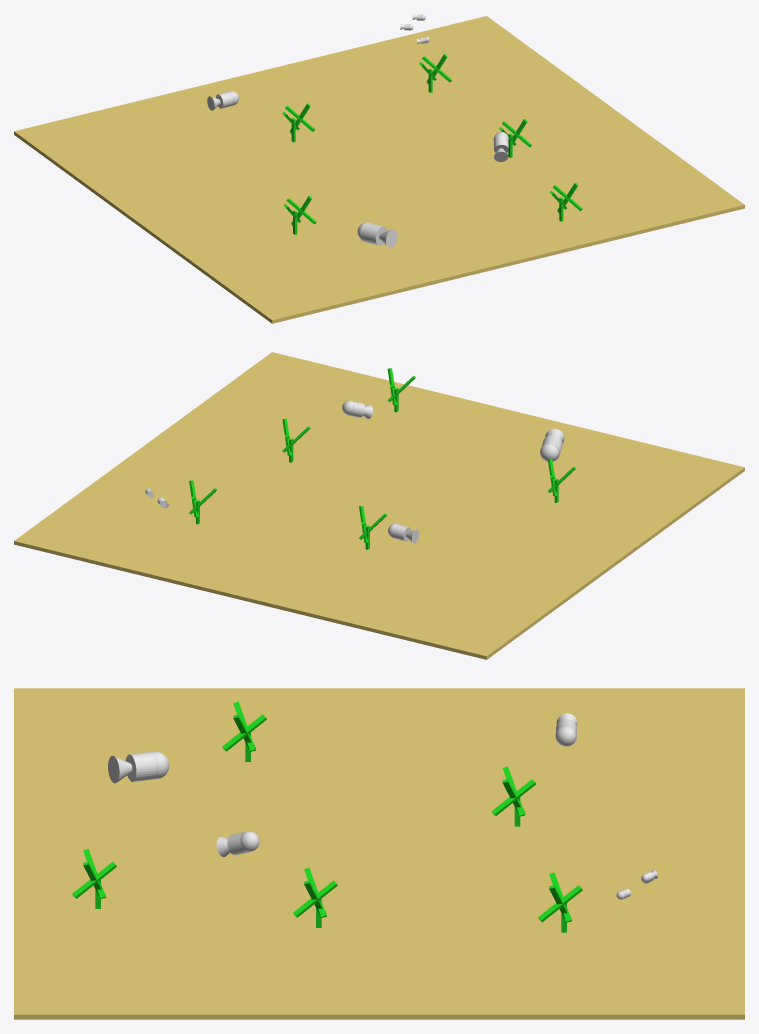
Rendered from underwater.gltf.
3 renders of one model, top to bottom at view 1: azimuth 30°, elevation 25°; view 2: azimuth 150°, elevation 25°; view 3: azimuth 270°, elevation 25°, orthographic. The views are drawn at different scales.
Visible parts, largest first — view 1: Cube; view 2: Cube; view 3: Cube, Cylinder.002.
Part boxes in pixels (left/top/right/bottom): Cube: left=14, top=16, right=744, bottom=323; Cube: left=14, top=352, right=744, bottom=659; Cube: left=14, top=688, right=744, bottom=1019; Cylinder.002: left=126, top=751, right=156, bottom=781.
Bounding box in the file's own units: 74 × 9.26 × 69.99.
